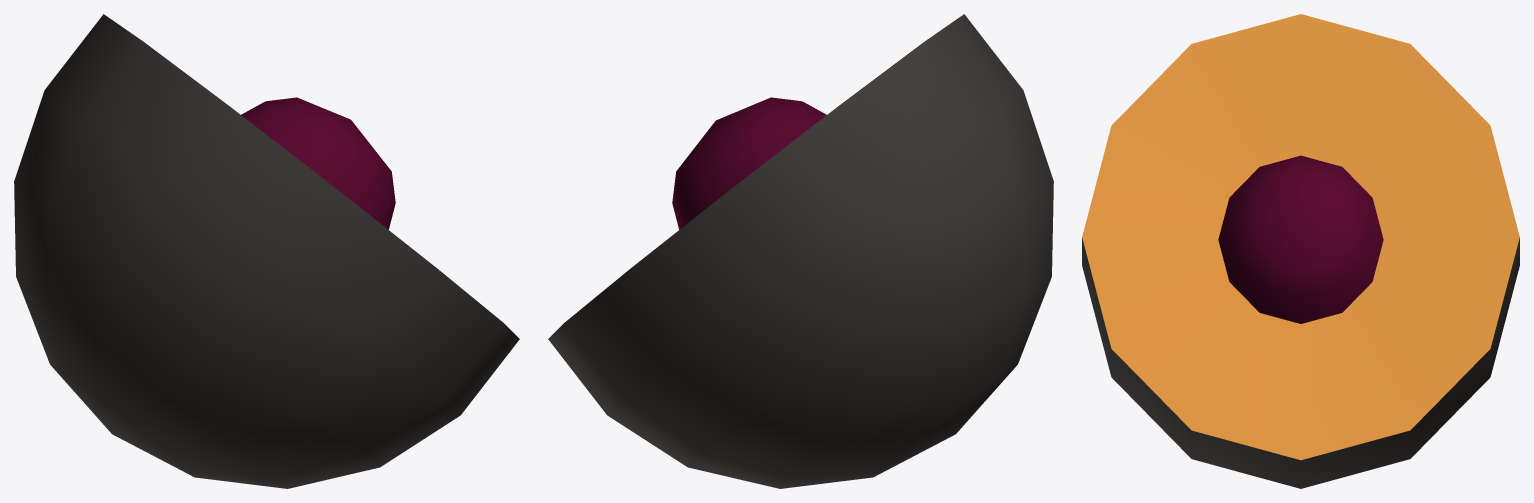
File: Coconut4.fbx
3 views of the same model, side by side, from view 1: azimuth 30°, elevation 25°; view 2: azimuth 150°, elevation 25°; view 3: azimuth 270°, elevation 25° (orthographic). The views are drawn at different scales.
Parts seen in each view (by area): view 1: Sphere; view 2: Sphere; view 3: Sphere.
Boxes of the visible parts, x1,y1,x2,y2 form: Sphere: (14,14,519,488); Sphere: (548,14,1053,488); Sphere: (1082,14,1519,488).
Bounding box in the file's own units: 100 × 100 × 100.
